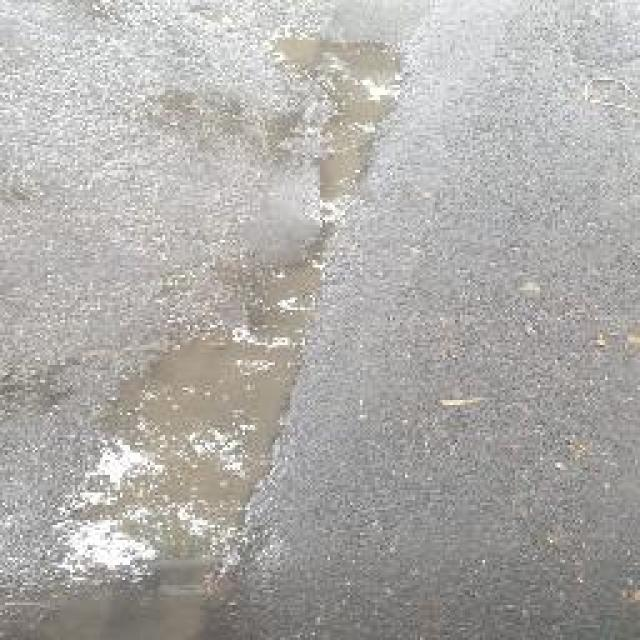puddle: (48, 247, 325, 640), (278, 41, 406, 236)
